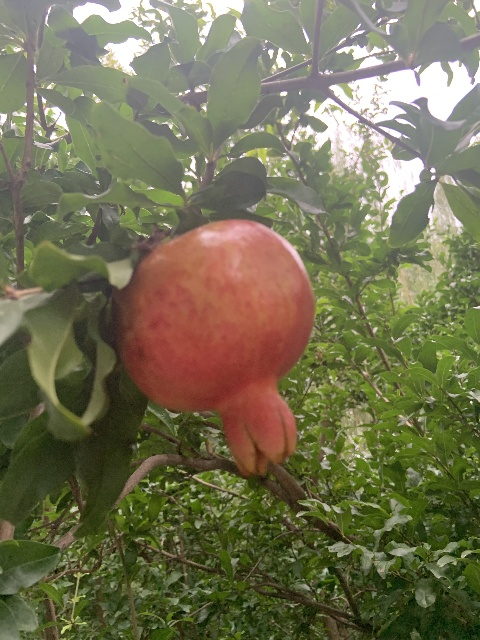ripe: (113, 219, 316, 477)
